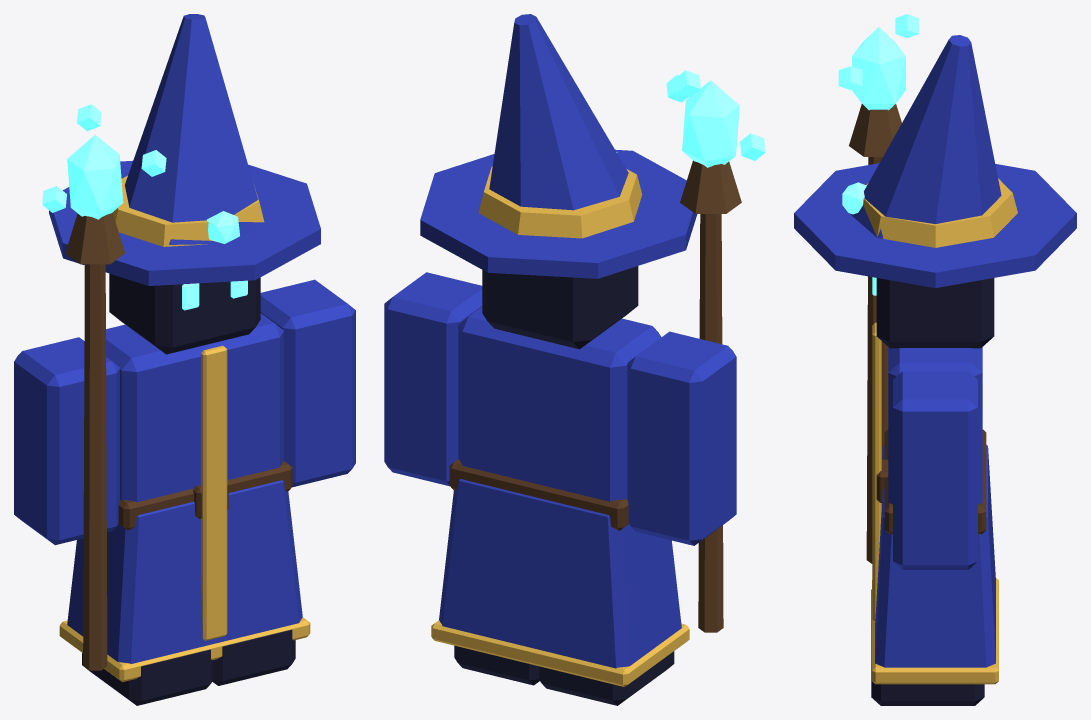
File: Mage.fbx
The picture shows the model from 3 angles, left to right: view 1: azimuth 30°, elevation 25°; view 2: azimuth 150°, elevation 25°; view 3: azimuth 270°, elevation 25°; orthographic projection. The views are drawn at different scales.
Parts seen in each view (by area): view 1: Hat, Robe, Torso, RightArm, LeftArm, Staff, RobeTrim, Head, StaffCrystal, RightLegBoot, LeftLegBoot, HatBand (+4 smaller); view 2: Hat, Robe, Torso, RightArm, LeftArm, Head, Staff, HatBand, RobeTrim, StaffCrystal, Belt, RightLegBoot (+2 smaller); view 3: Hat, LeftArm, Robe, Head, RobeTrim, Staff, HatBand, Torso, StaffCrystal, LeftLegBoot, Belt, Shards (+1 smaller).
Part boxes in pixels (left/top/right/bottom): Hat: left=49, top=14, right=320, bottom=285; Robe: left=67, top=480, right=302, bottom=663; Torso: left=106, top=313, right=283, bottom=502; RightArm: left=14, top=337, right=119, bottom=545; LeftArm: left=260, top=279, right=355, bottom=487; Staff: left=65, top=212, right=124, bottom=670; RobeTrim: left=59, top=345, right=310, bottom=682; Head: left=109, top=273, right=260, bottom=354; StaffCrystal: left=67, top=134, right=123, bottom=219; RightLegBoot: left=82, top=649, right=213, bottom=705; LeftLegBoot: left=212, top=629, right=295, bottom=685; HatBand: left=112, top=175, right=264, bottom=246; Hat: left=420, top=14, right=697, bottom=278; Robe: left=439, top=479, right=681, bottom=668; Torso: left=458, top=307, right=661, bottom=501; RightArm: left=627, top=331, right=736, bottom=545; LeftArm: left=384, top=272, right=482, bottom=486; Head: left=482, top=266, right=638, bottom=349; Staff: left=680, top=160, right=741, bottom=632; HatBand: left=478, top=166, right=642, bottom=238; RobeTrim: left=431, top=620, right=689, bottom=686; StaffCrystal: left=682, top=80, right=739, bottom=167; Belt: left=449, top=459, right=628, bottom=530; RightLegBoot: left=539, top=651, right=674, bottom=705; Hat: left=794, top=35, right=1076, bottom=287; LeftArm: left=893, top=371, right=977, bottom=569; Robe: left=875, top=445, right=995, bottom=667; Head: left=876, top=278, right=994, bottom=348; RobeTrim: left=872, top=322, right=998, bottom=684; Staff: left=849, top=104, right=901, bottom=563; HatBand: left=863, top=178, right=1017, bottom=247; Torso: left=888, top=347, right=982, bottom=504; StaffCrystal: left=852, top=27, right=905, bottom=110; LeftLegBoot: left=871, top=629, right=984, bottom=705; Belt: left=876, top=429, right=986, bottom=534; Shards: left=838, top=14, right=919, bottom=90.
Size of the model in its own units: 4 by 7.5 by 3.
